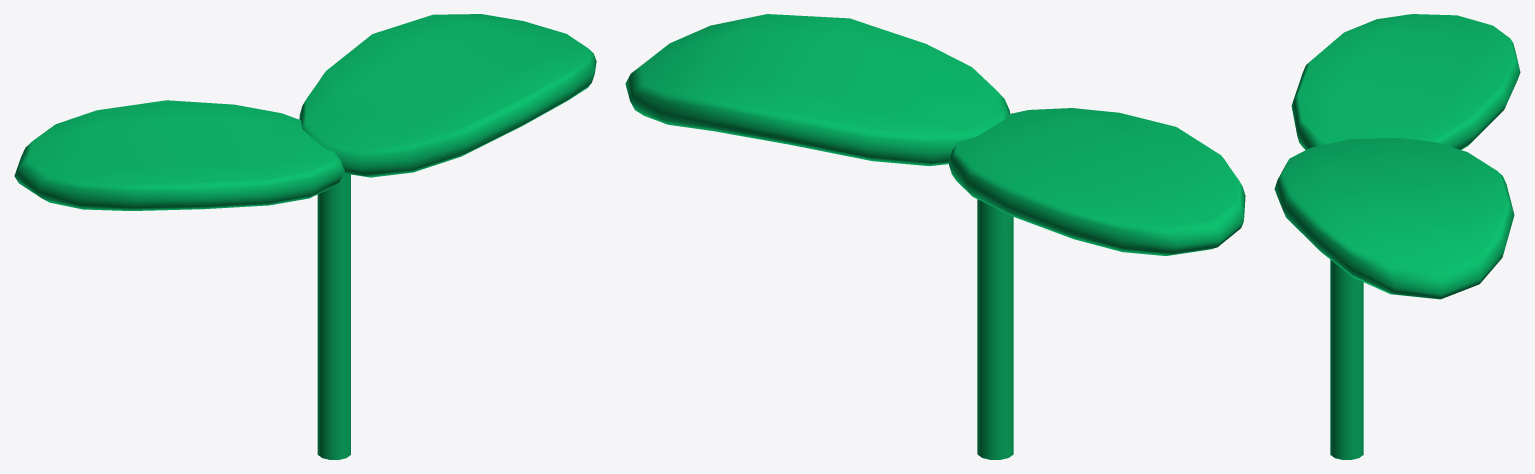
Rendered from Farm_4_Plant_4.glb.
3 views of the same model, side by side, from view 1: azimuth 30°, elevation 25°; view 2: azimuth 150°, elevation 25°; view 3: azimuth 270°, elevation 25° (orthographic). The views are drawn at different scales.
Visible parts, largest first — view 1: Farm_4_Plant_4; view 2: Farm_4_Plant_4; view 3: Farm_4_Plant_4.
Boxes of the visible parts, x1,y1,x2,y2 form: Farm_4_Plant_4: [14, 14, 596, 459]; Farm_4_Plant_4: [625, 14, 1245, 459]; Farm_4_Plant_4: [1274, 14, 1520, 459].
Size of the model in its own units: 0.4861 by 0.2827 by 0.1868.
1 material, 1 textured.
